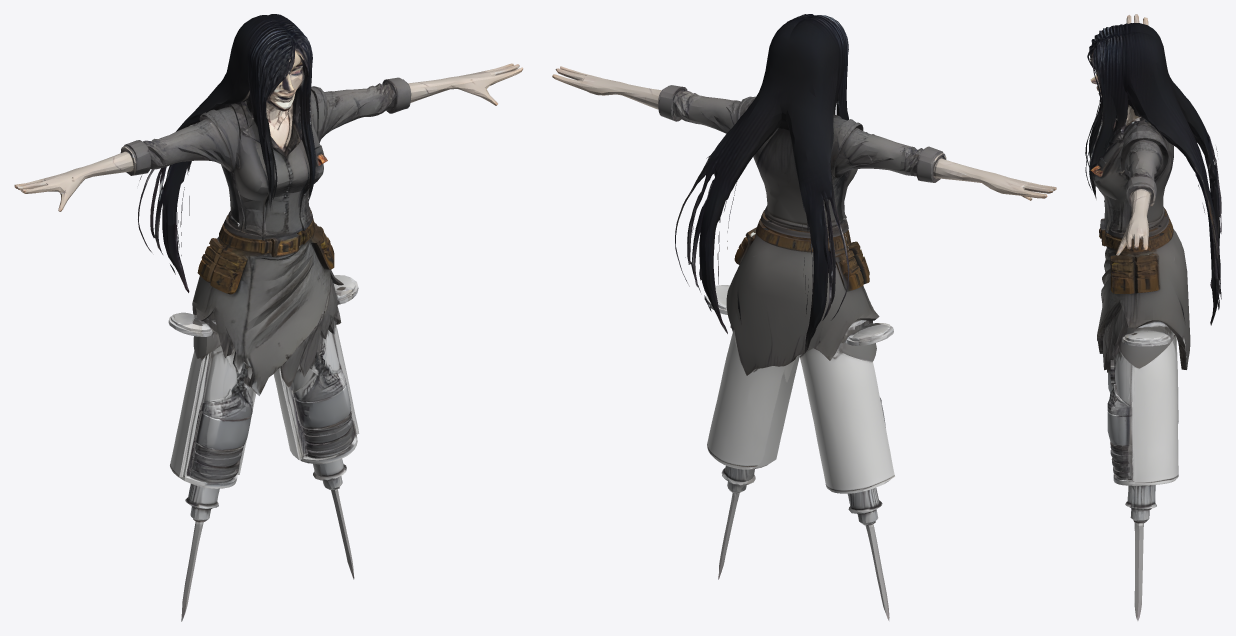
The model's file is base_basic_pbr.fbx.
The picture shows the model from 3 angles, left to right: view 1: azimuth 30°, elevation 25°; view 2: azimuth 150°, elevation 25°; view 3: azimuth 270°, elevation 25°; orthographic projection. The views are drawn at different scales.
Visible parts, largest first — view 1: model; view 2: model; view 3: model.
Boxes of the visible parts, x1,y1,x2,y2 form: model: (14, 14, 523, 621); model: (552, 14, 1056, 621); model: (1085, 14, 1221, 621).
Bounding box in the file's own units: 160 × 179 × 39.69.
Materials: 1 (1 with a texture image).
